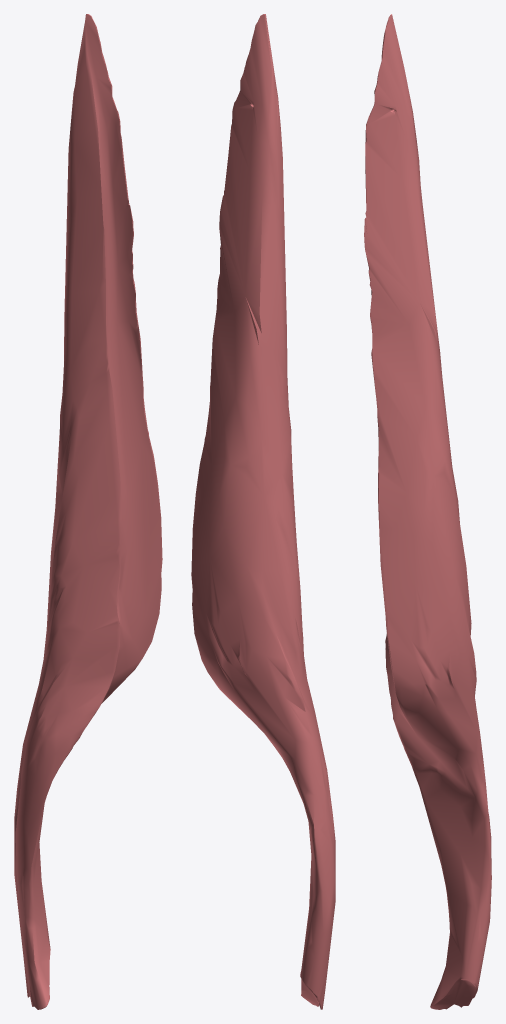
3 views of the same model, side by side, from view 1: azimuth 30°, elevation 25°; view 2: azimuth 210°, elevation 25°; view 3: azimuth 270°, elevation 25° (orthographic). The views are drawn at different scales.
Parts seen in each view (by area): view 1: FJ1444; view 2: FJ1444; view 3: FJ1444.
Part boxes in pixels (<box>): FJ1444: <box>14,14,162,1009</box>; FJ1444: <box>191,14,335,1009</box>; FJ1444: <box>364,14,491,1009</box>.
Size of the model in its own units: 0.0365 by 0.3167 by 0.0364.
